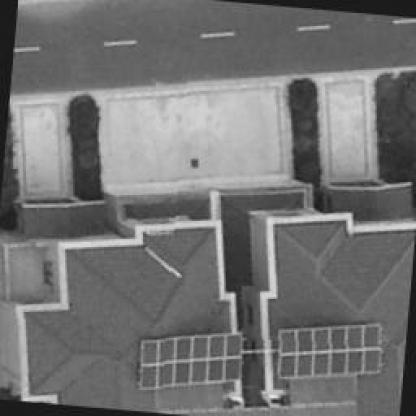solar-pv-panel: (138, 333, 240, 389), (278, 324, 380, 378)
